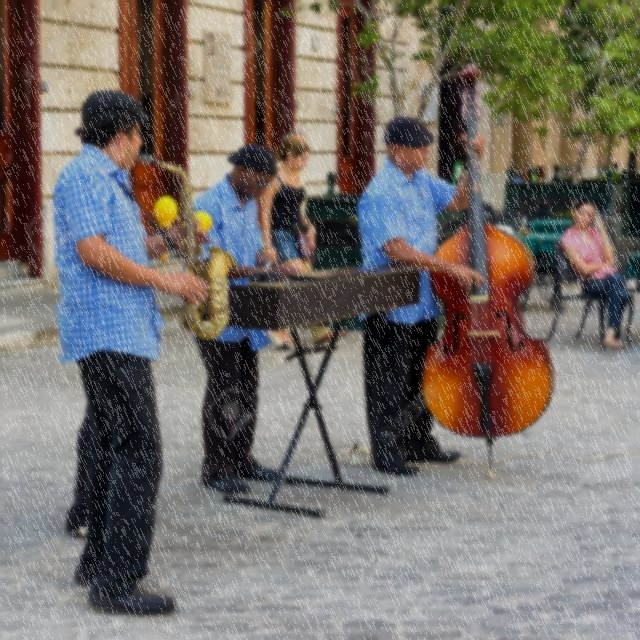pessoa: (49, 85, 211, 620), (354, 113, 488, 480), (178, 141, 308, 498), (274, 131, 350, 346), (256, 136, 318, 354), (559, 195, 632, 352), (531, 166, 547, 183), (512, 167, 530, 182), (206, 34, 216, 58)
